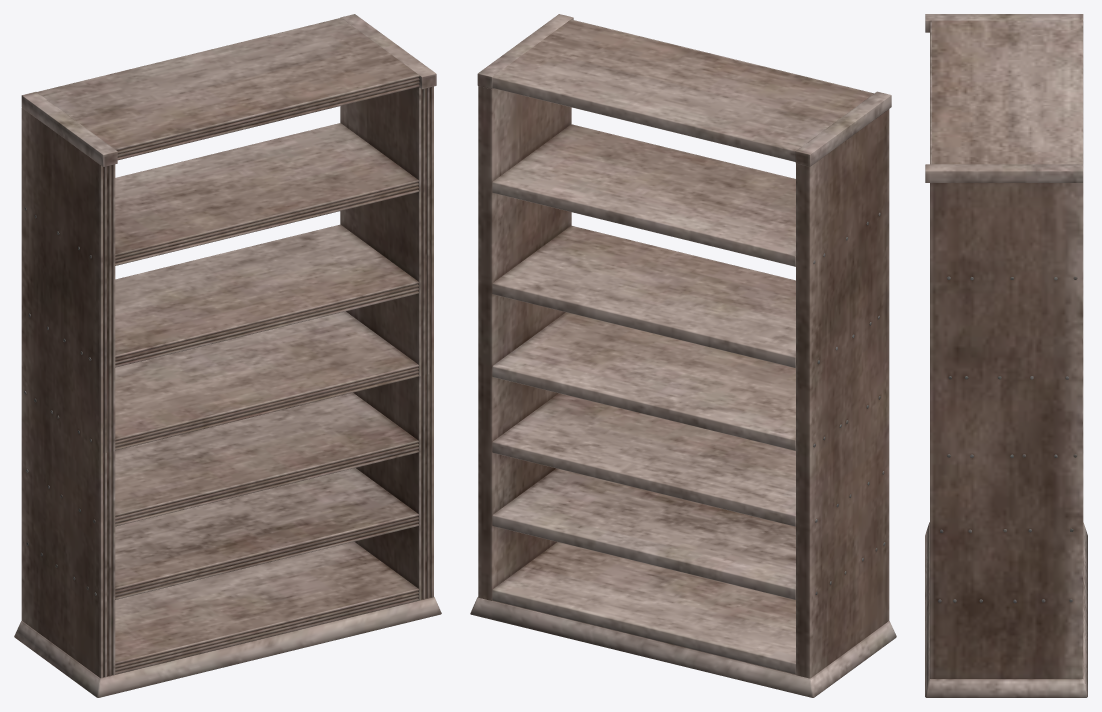
The model's file is wooden_bookshelf_worn.glb.
3 views of the same model, side by side, from view 1: azimuth 30°, elevation 25°; view 2: azimuth 150°, elevation 25°; view 3: azimuth 270°, elevation 25° (orthographic). The views are drawn at different scales.
Parts seen in each view (by area): view 1: wooden_bookshelf_worn; view 2: wooden_bookshelf_worn; view 3: wooden_bookshelf_worn.
Boxes of the visible parts, x1,y1,x2,y2 form: wooden_bookshelf_worn: [14, 14, 441, 697]; wooden_bookshelf_worn: [470, 14, 896, 697]; wooden_bookshelf_worn: [925, 14, 1087, 697].
Bounding box in the file's own units: 1.37 × 2.06 × 0.5813.
1 material, 1 textured.
